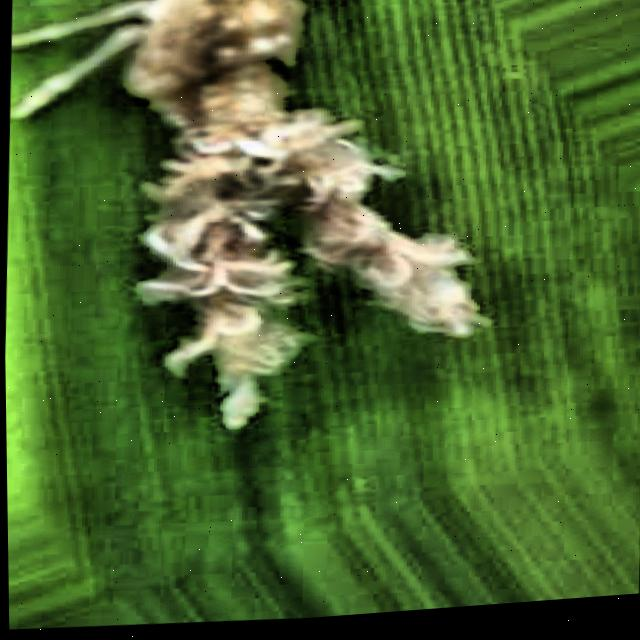Pyrilla-perpusilla: (0, 0, 636, 433)
